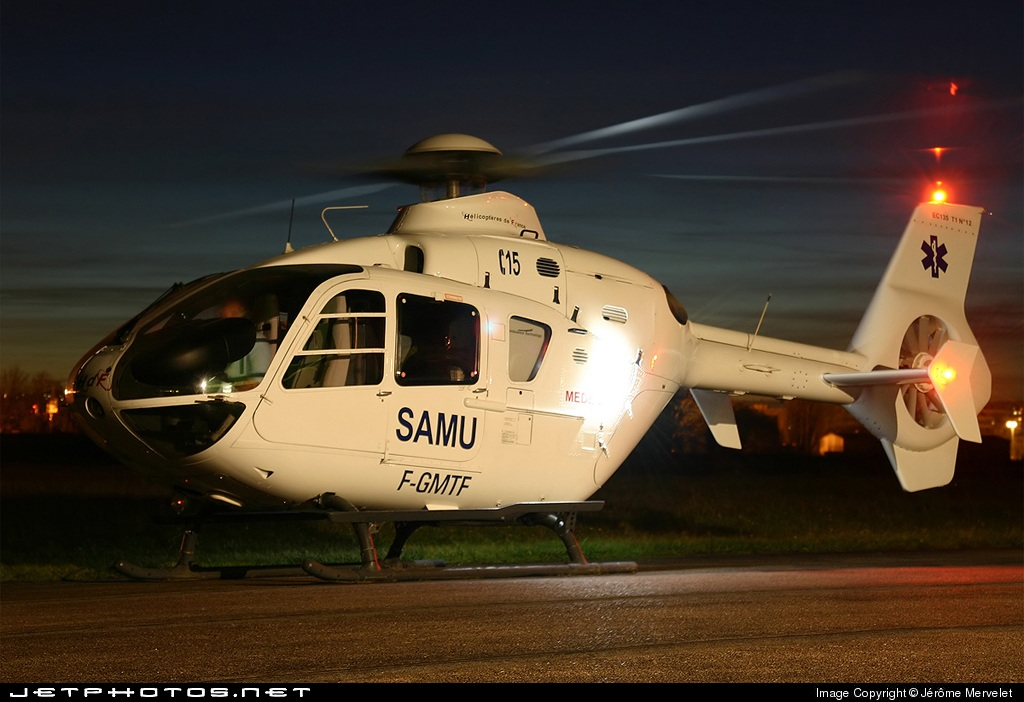number: (392, 462, 476, 503)
